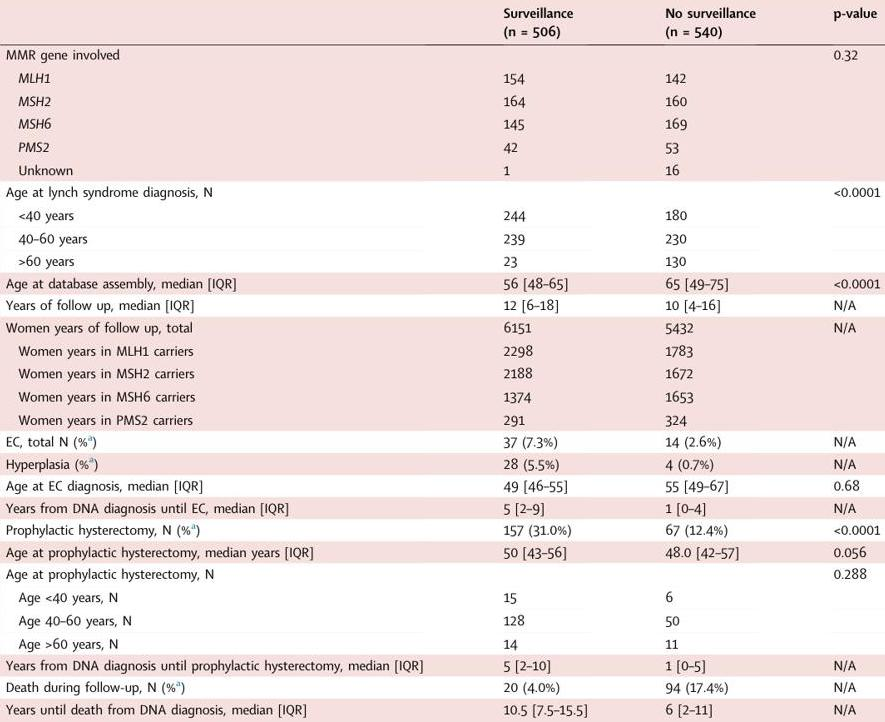table: (4, 5, 879, 717)
table column: (4, 5, 462, 717), (625, 5, 793, 717), (462, 5, 625, 717), (793, 5, 879, 717)
table column header: (4, 5, 879, 42)
table row: (4, 5, 879, 42), (4, 65, 879, 89), (4, 384, 879, 408), (4, 674, 879, 698), (4, 42, 879, 65), (4, 89, 879, 112), (4, 112, 879, 135), (4, 135, 879, 158), (4, 180, 879, 203), (4, 203, 879, 226), (4, 226, 879, 249), (4, 249, 879, 272), (4, 338, 879, 361), (4, 361, 879, 384), (4, 451, 879, 474), (4, 517, 879, 540), (4, 562, 879, 585), (4, 585, 879, 608), (4, 608, 879, 631), (4, 631, 879, 654), (4, 158, 879, 180), (4, 272, 879, 294), (4, 294, 879, 316), (4, 316, 879, 338), (4, 429, 879, 451), (4, 474, 879, 496), (4, 540, 879, 562), (4, 408, 879, 429), (4, 496, 879, 517), (4, 654, 879, 674), (4, 698, 879, 717)
